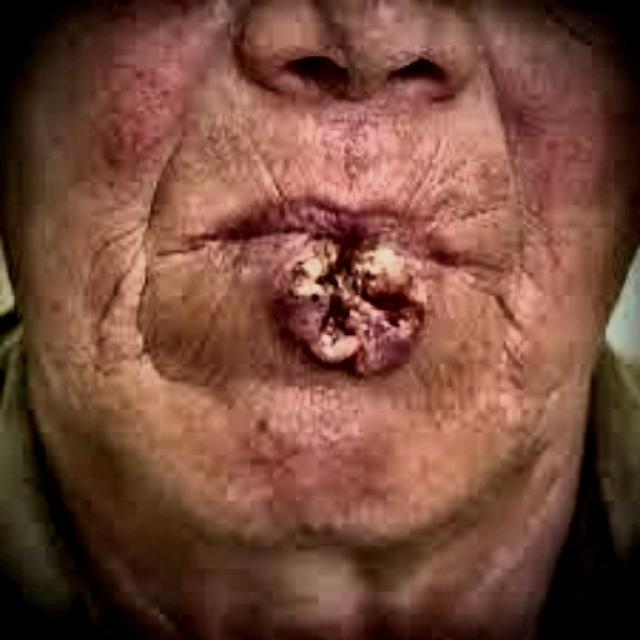cancer-detection: (258, 218, 441, 394)
processing_area: (175, 187, 520, 408)
